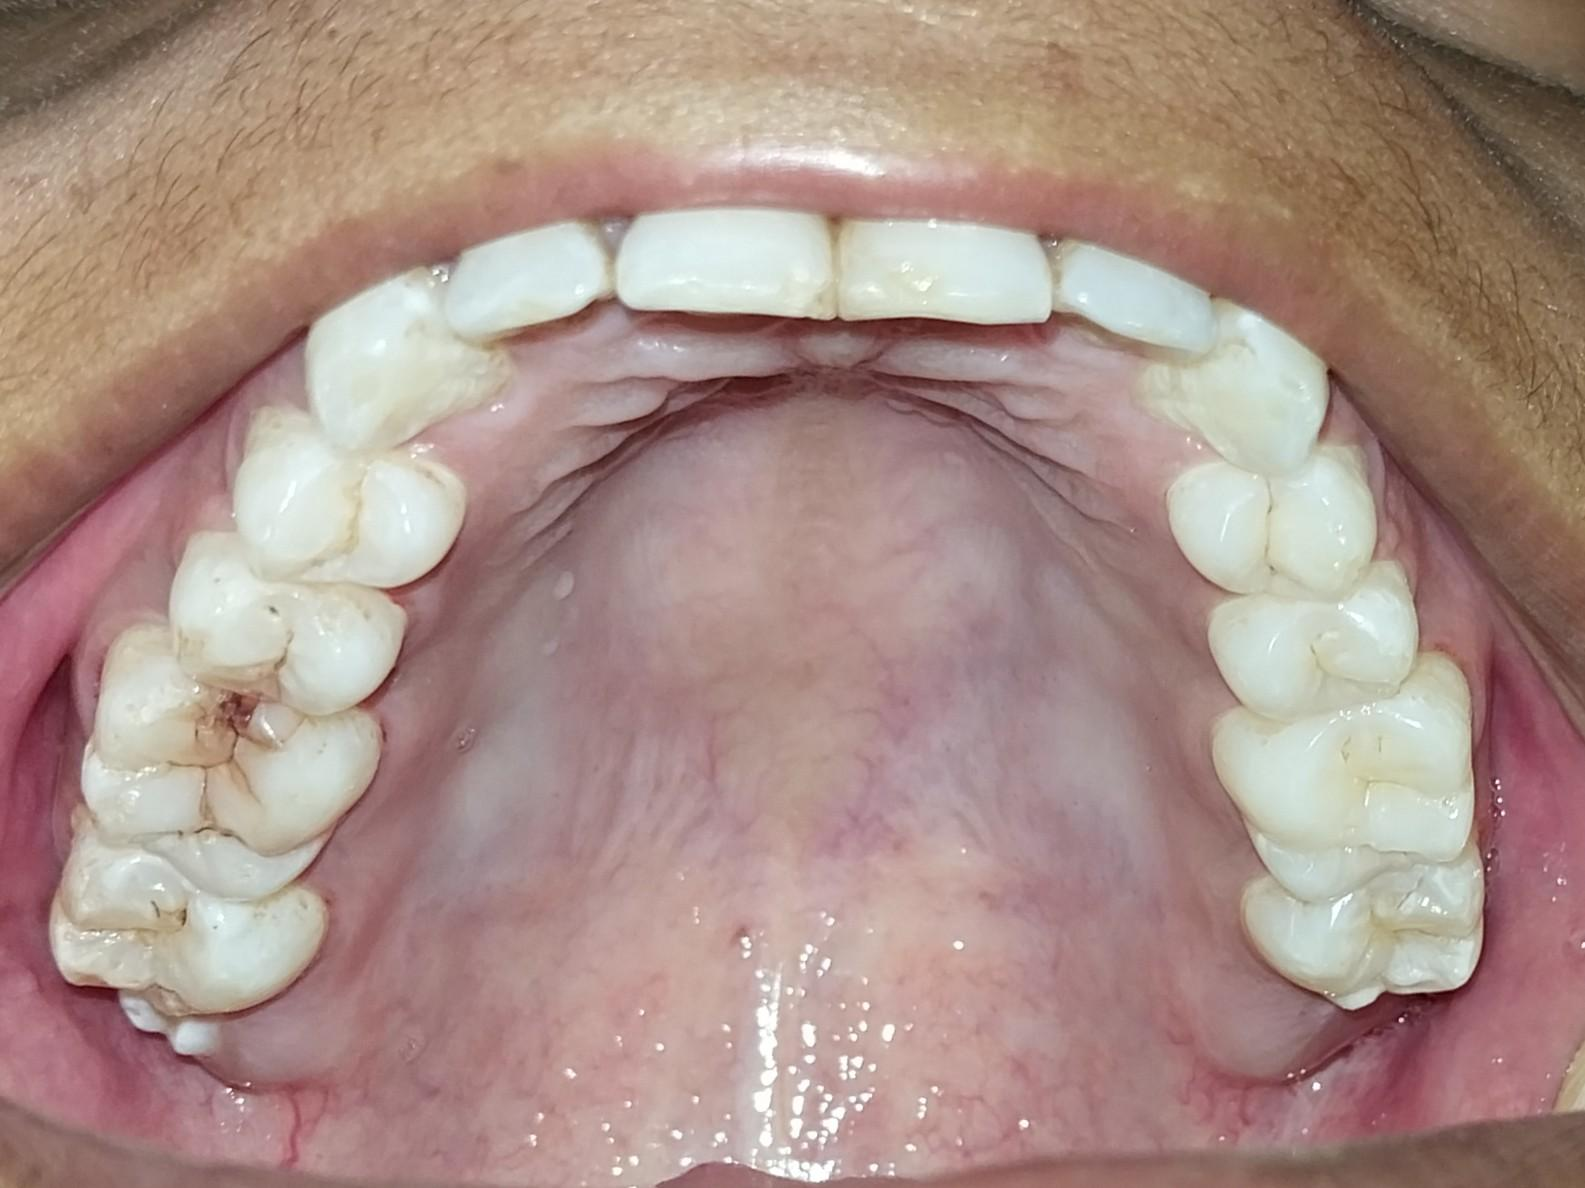D: (82, 640, 368, 904), (38, 844, 336, 1016)
